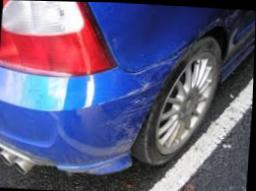Bumper: (51, 44, 190, 171)
Fender: (88, 2, 241, 78)
